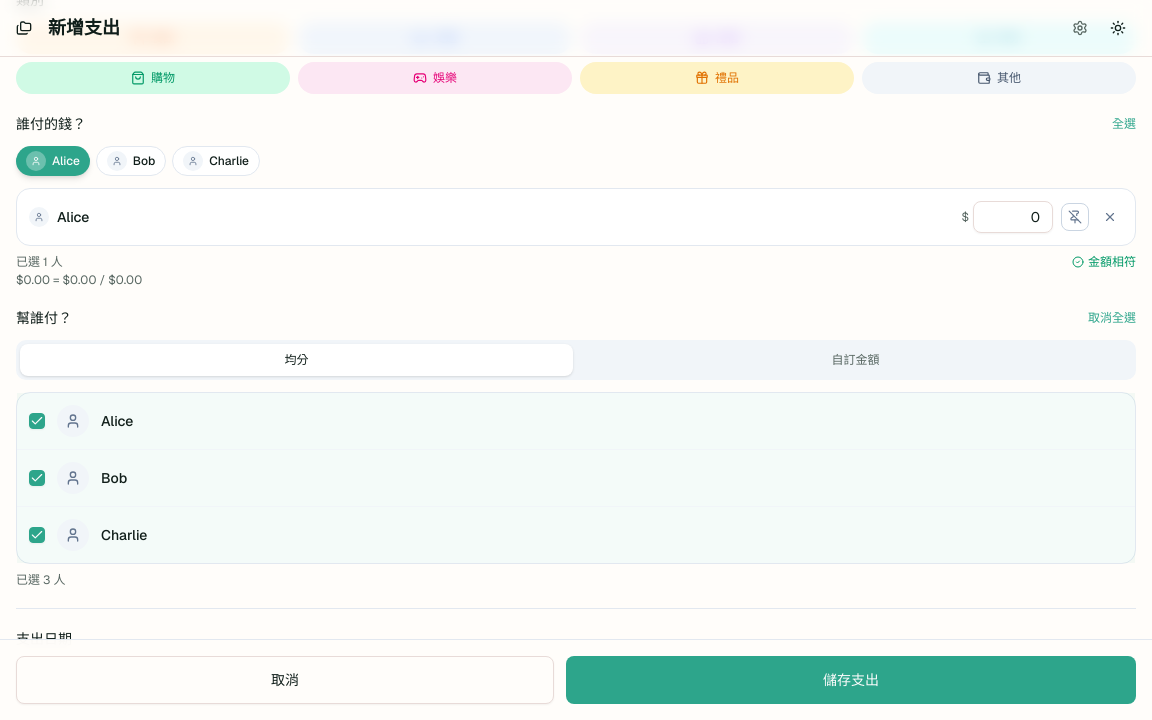
it: ExpenseForm Component › Personal Items + Equal Split Mode › should show custom mode tabs when custom split is selected
This screenshot has width=1152, height=720.
(page scrolled)
// Click custom split button
Click the button "自訂金額" at coordinates (856, 360), box [579,344,1132,376]
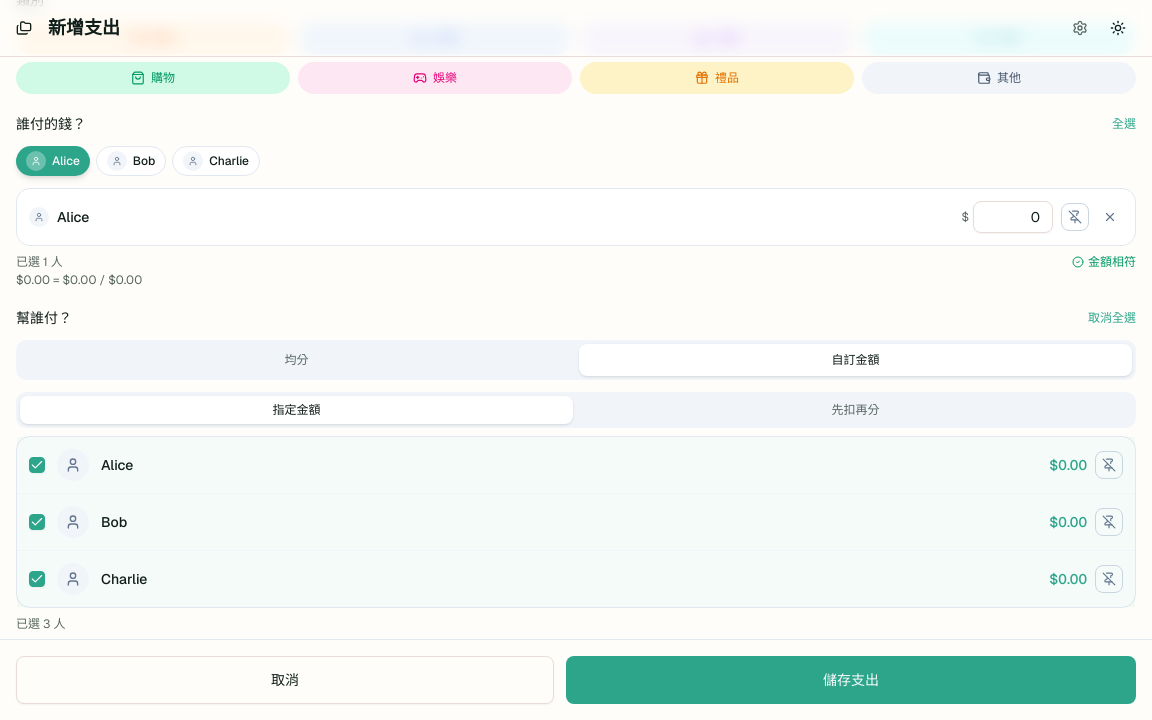
Check: the button "指定金額" is shown, box [20,396,573,424]
Check: the button "先扣再分" is shown, box [579,396,1132,424]
